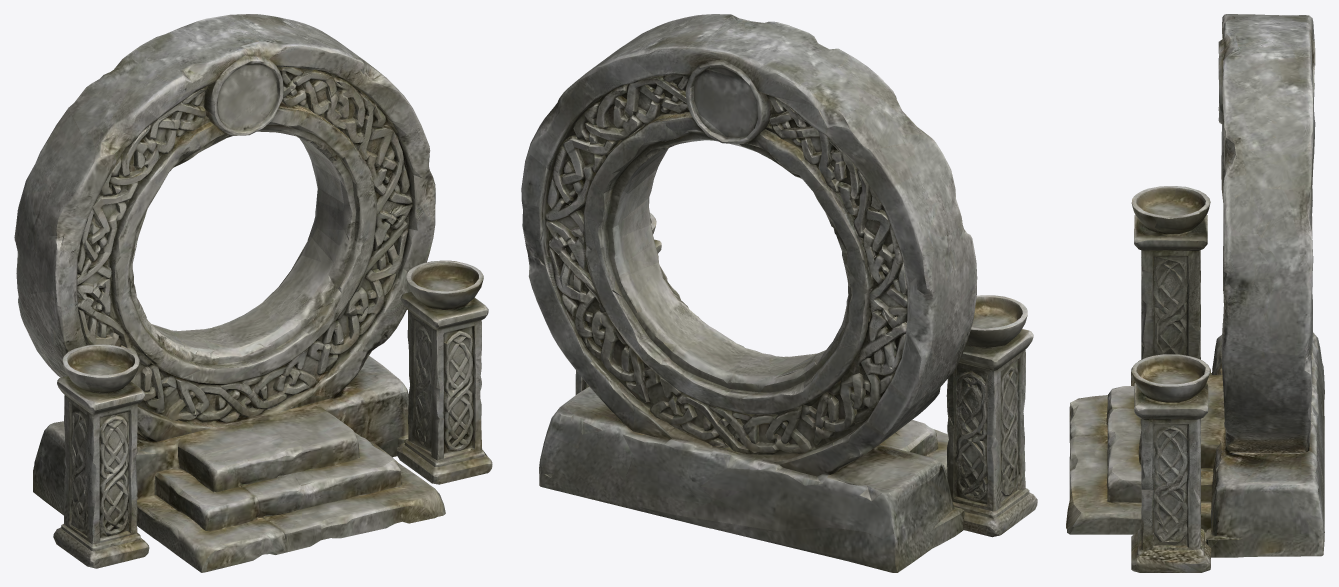
The model's file is portal.glb.
3 renders of one model, left to right at view 1: azimuth 30°, elevation 25°; view 2: azimuth 150°, elevation 25°; view 3: azimuth 270°, elevation 25°, orthographic. The views are drawn at different scales.
Size of the model in its own units: 1.86 by 1.9 by 1.01.
Materials: 1 (1 with a texture image).
